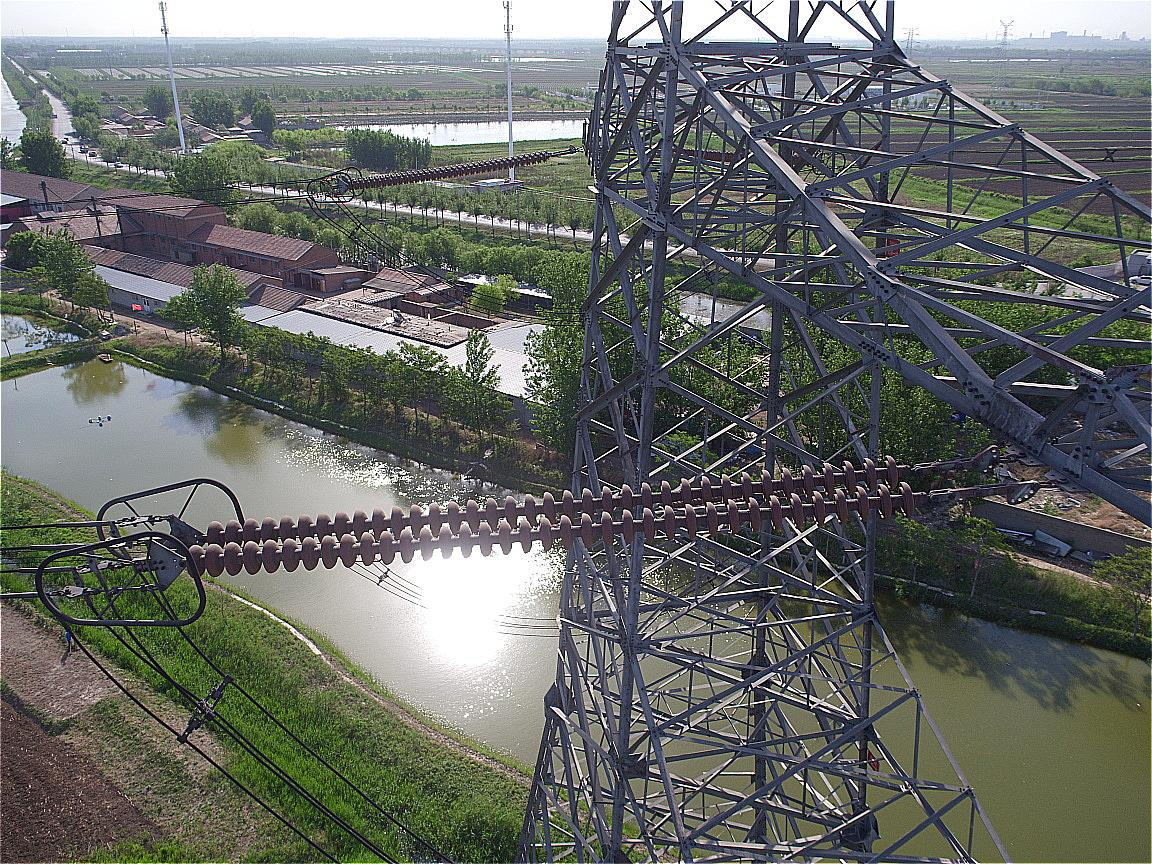insultor1: (184, 433, 927, 586)
